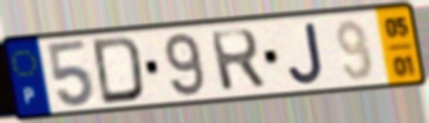5: (44, 37, 98, 109)
9: (160, 31, 209, 99), (335, 17, 376, 83)
D: (89, 34, 147, 107)
J: (285, 20, 326, 87)
R: (207, 26, 269, 94)
